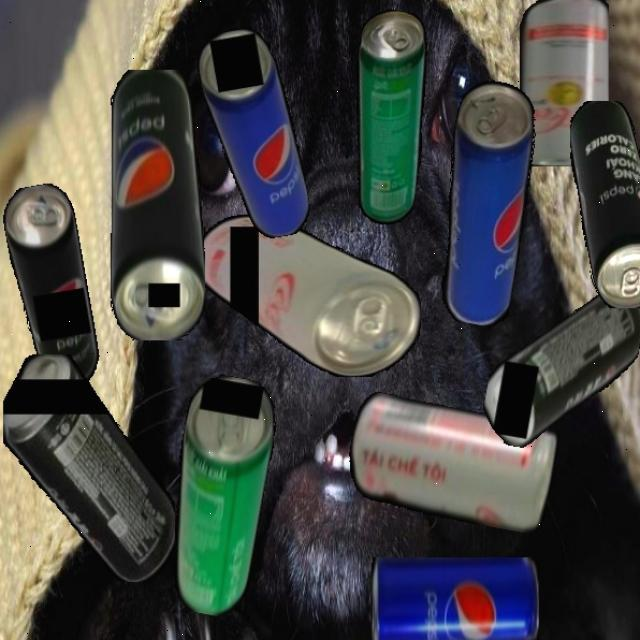debris: (2, 353, 175, 582), (194, 215, 421, 377), (154, 370, 284, 620), (422, 75, 548, 330), (342, 390, 562, 536), (478, 268, 640, 464), (193, 23, 314, 245), (330, 5, 446, 229), (110, 69, 205, 340), (0, 180, 103, 389), (519, 0, 609, 166), (569, 100, 640, 308), (371, 556, 539, 640)
